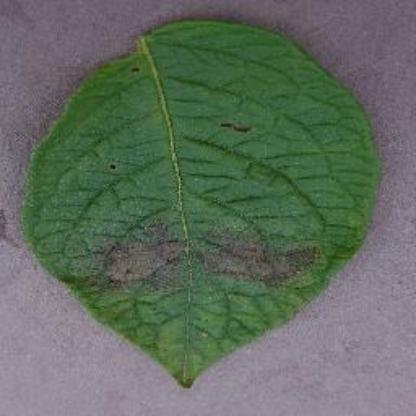Late-Blight: (20, 11, 376, 392)
